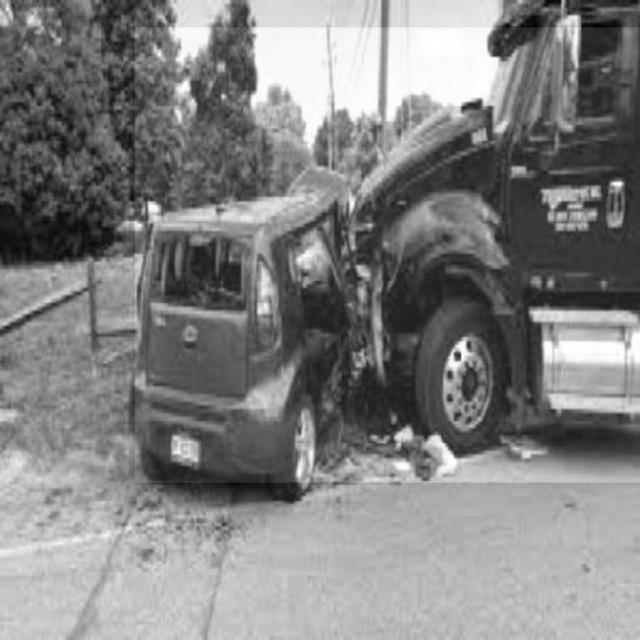accident: (135, 28, 640, 482)
